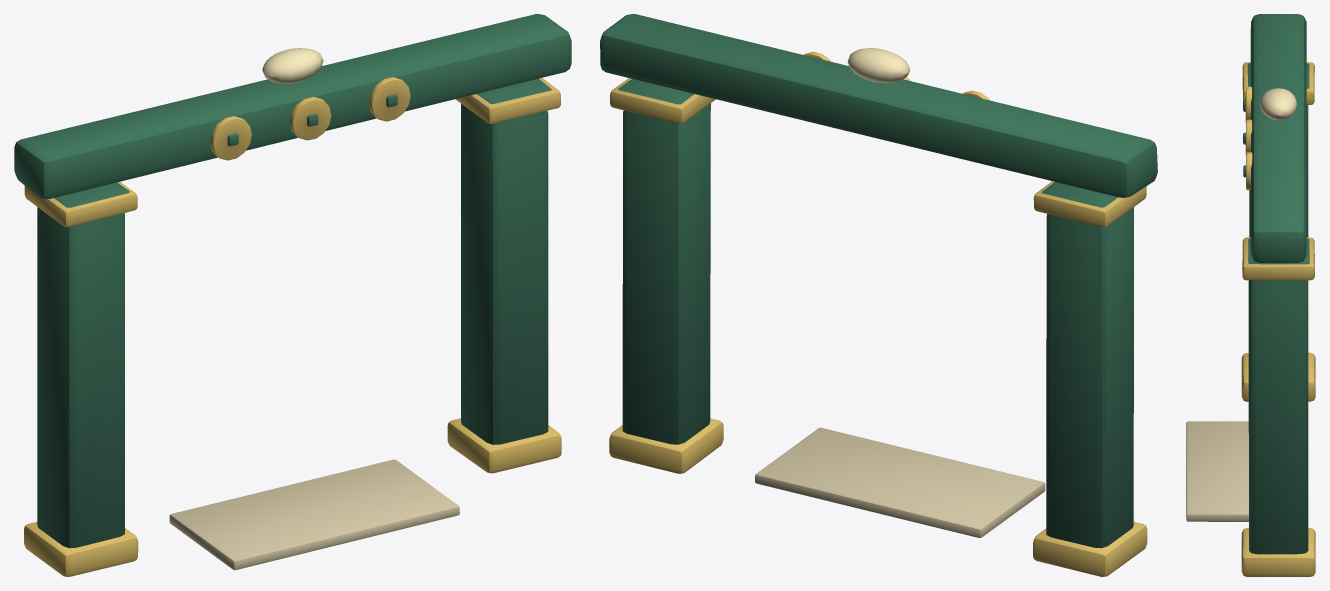
3 renders of one model, left to right at view 1: azimuth 30°, elevation 25°; view 2: azimuth 150°, elevation 25°; view 3: azimuth 270°, elevation 25°, orthographic. The views are drawn at different scales.
Visible parts, largest first — view 1: gate_97cc2f68; view 2: gate_97cc2f68; view 3: gate_97cc2f68.
Part boxes in pixels (box(x1,y1,x2,y2)): gate_97cc2f68: box(14, 14, 571, 576); gate_97cc2f68: box(600, 14, 1157, 576); gate_97cc2f68: box(1186, 14, 1315, 576).
Bounding box in the file's own units: 5.65 × 4.57 × 1.4.
